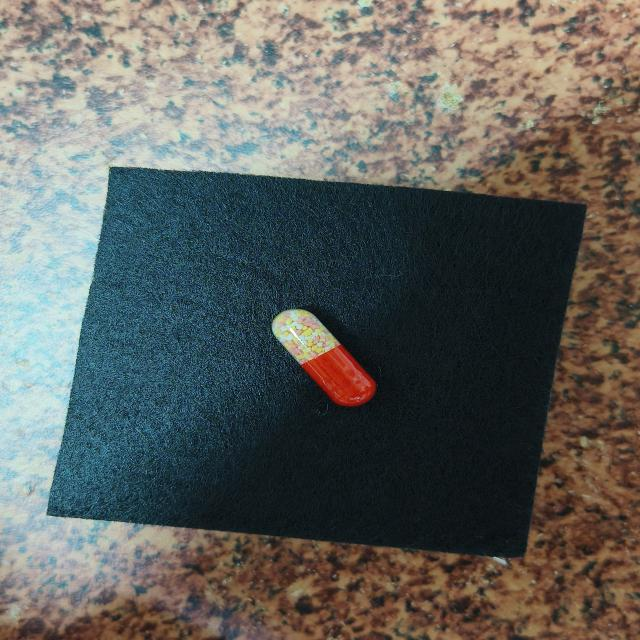Intact Capsule: (272, 309, 376, 406)
